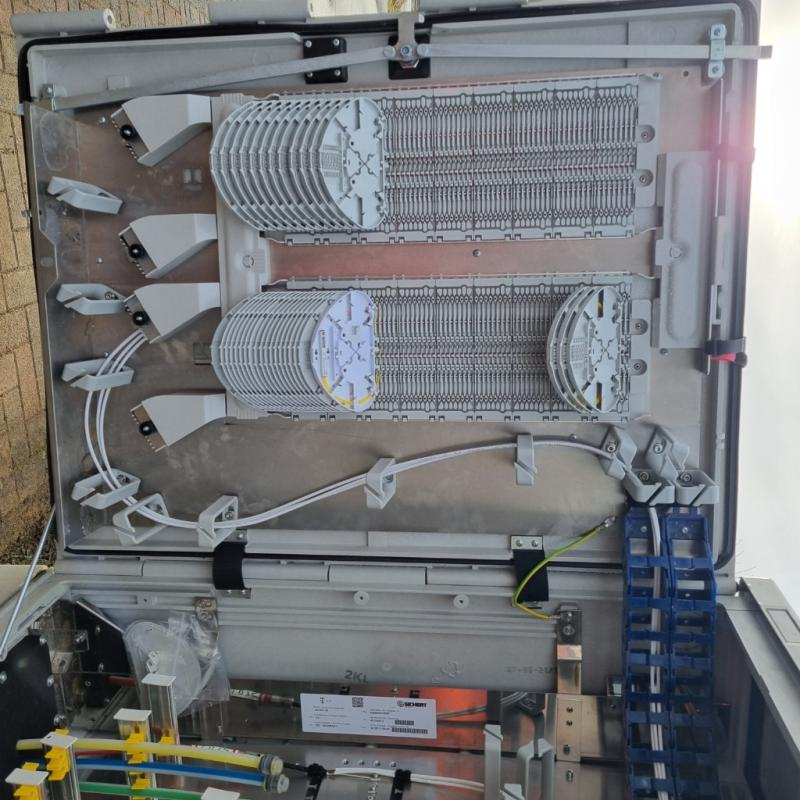NT-Gehause: (0, 0, 800, 789)
Spleiskassetten: (198, 66, 663, 245), (202, 267, 650, 426)
